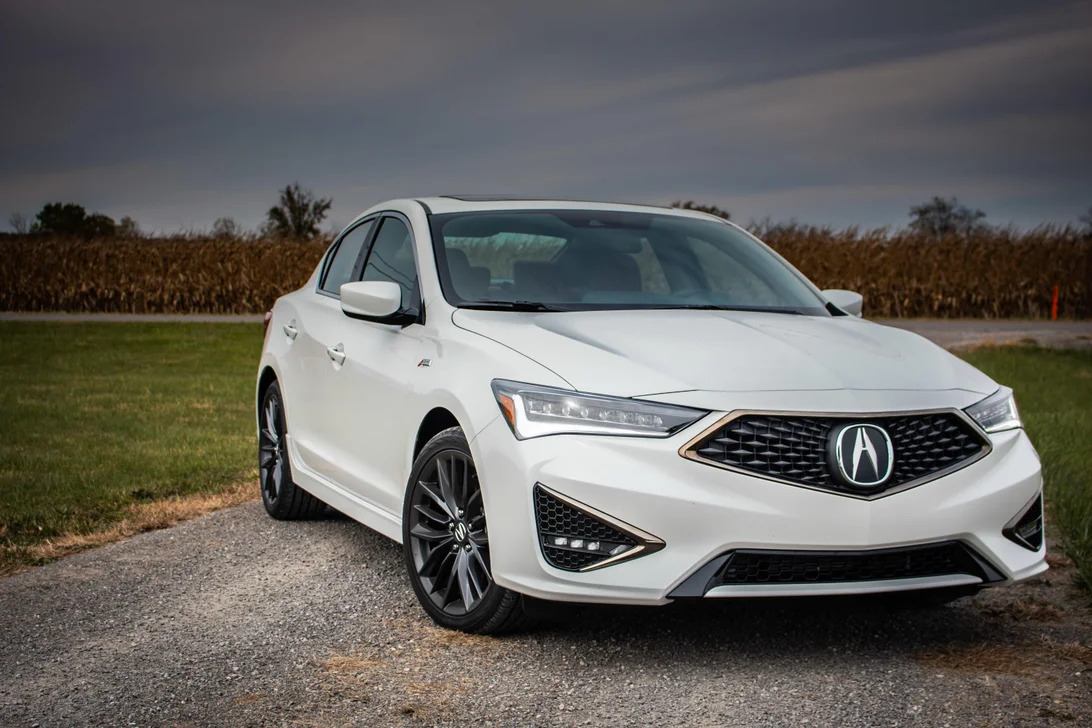Fog Lamp & Scope: (533, 503, 642, 566)
Front: (438, 316, 1048, 597)
Front Bumper: (485, 492, 1056, 601)
Grill: (704, 418, 969, 497)
Headlight: (490, 383, 688, 442)
